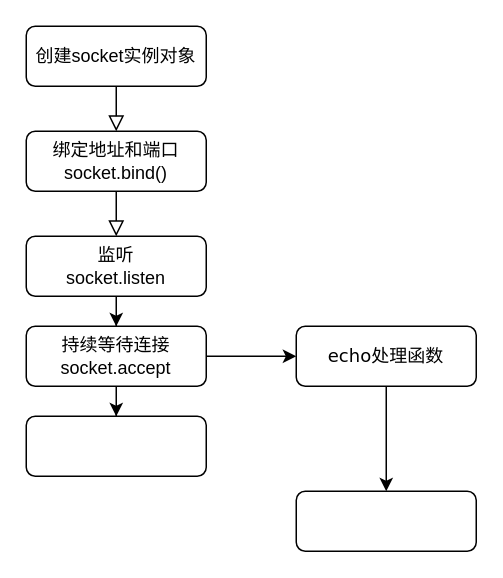
The diagram is 503 pixels wide and 578 high, and some of its shapes have lost their labels. The shapes that lost their labels are listed below. From the top down, each one's centre as x and y in pixels, then its label:
point (115, 445): 创建多进程，将echo处理设为目标函数
point (385, 520): 持续接收客户端数据与发送数据
